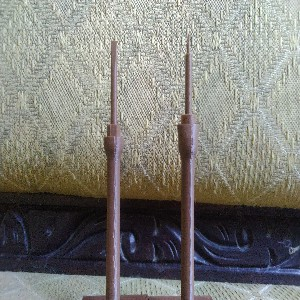obeng: (103, 39, 124, 300)
solder: (176, 33, 199, 300)
